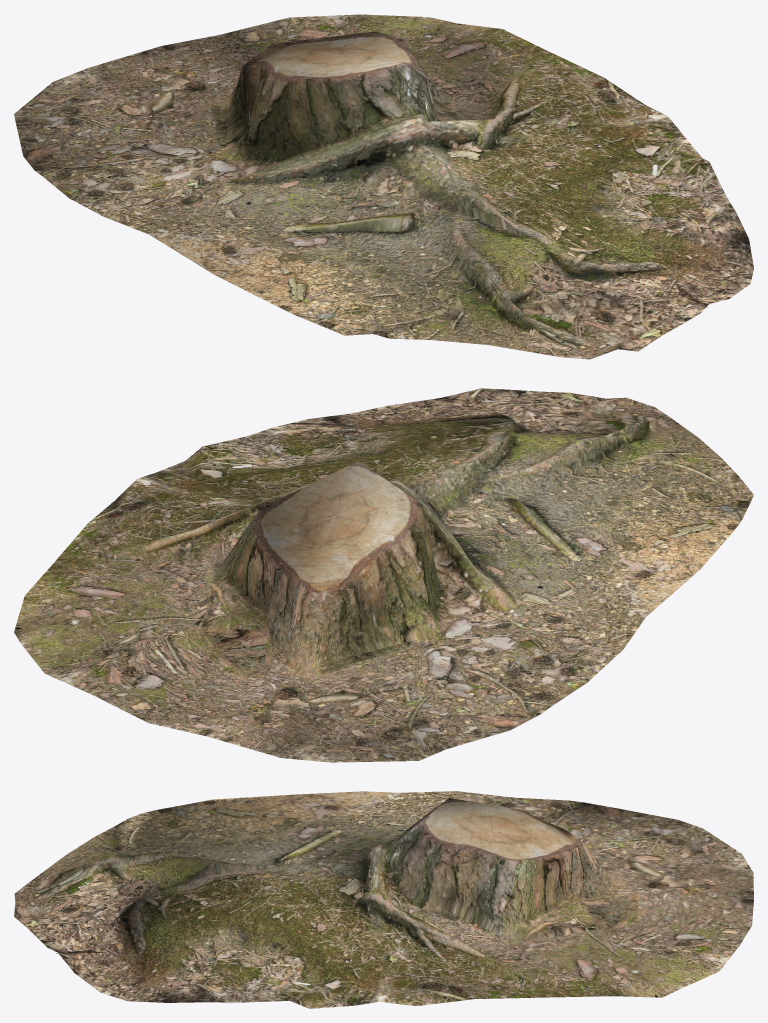
The picture shows the model from 3 angles, top to bottom: view 1: azimuth 30°, elevation 25°; view 2: azimuth 150°, elevation 25°; view 3: azimuth 270°, elevation 25°; orthographic projection. The views are drawn at different scales.
Visible parts, largest first — view 1: 3DTreeStump001-0; view 2: 3DTreeStump001-0; view 3: 3DTreeStump001-0.
Boxes of the visible parts, x1,y1,x2,y2 form: 3DTreeStump001-0: (14, 14, 753, 359); 3DTreeStump001-0: (14, 388, 753, 762); 3DTreeStump001-0: (14, 791, 753, 1008).
Size of the model in its own units: 4.43 by 0.9929 by 6.4.
Materials: 1 (1 with a texture image).
